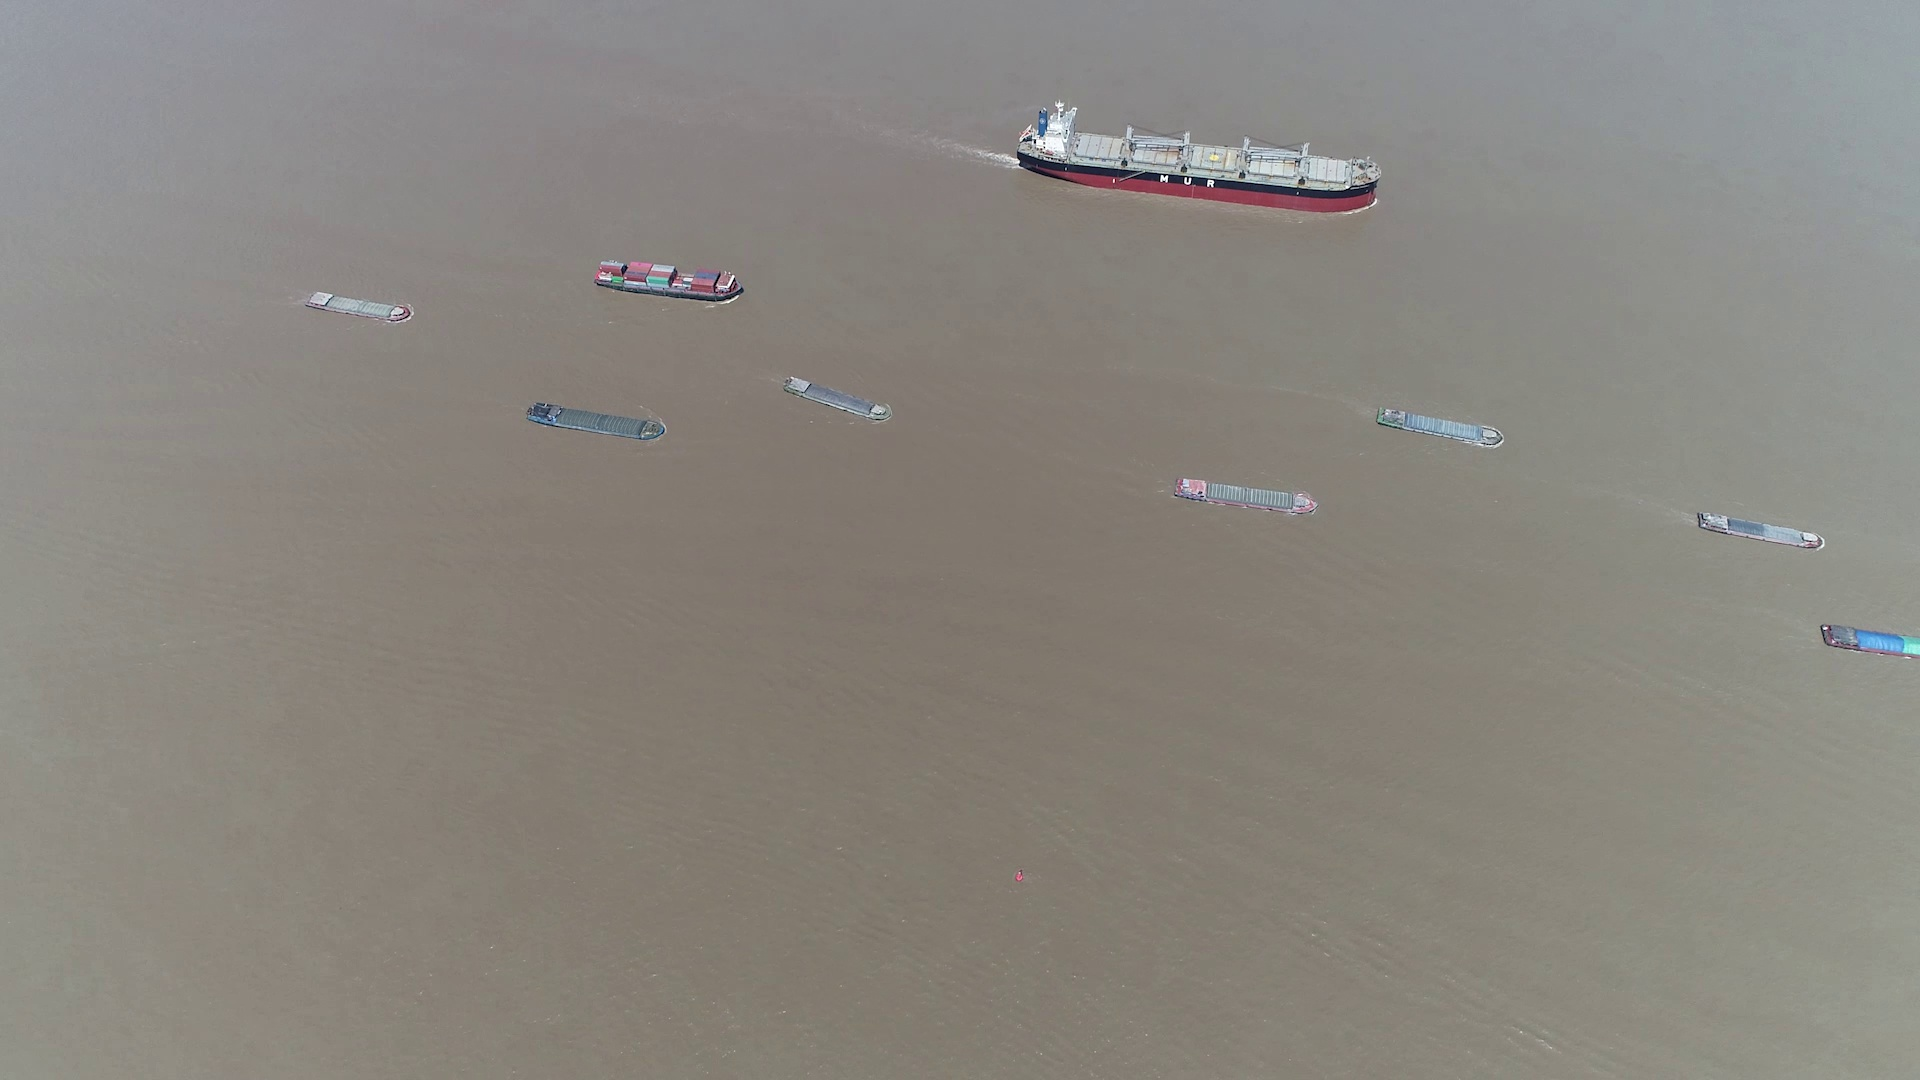ship: (1013, 104, 1377, 208), (595, 257, 744, 302), (525, 401, 662, 443), (1174, 476, 1317, 516), (1695, 510, 1826, 551), (1377, 406, 1505, 447), (785, 375, 891, 422), (1818, 622, 1919, 659), (305, 289, 411, 323)
